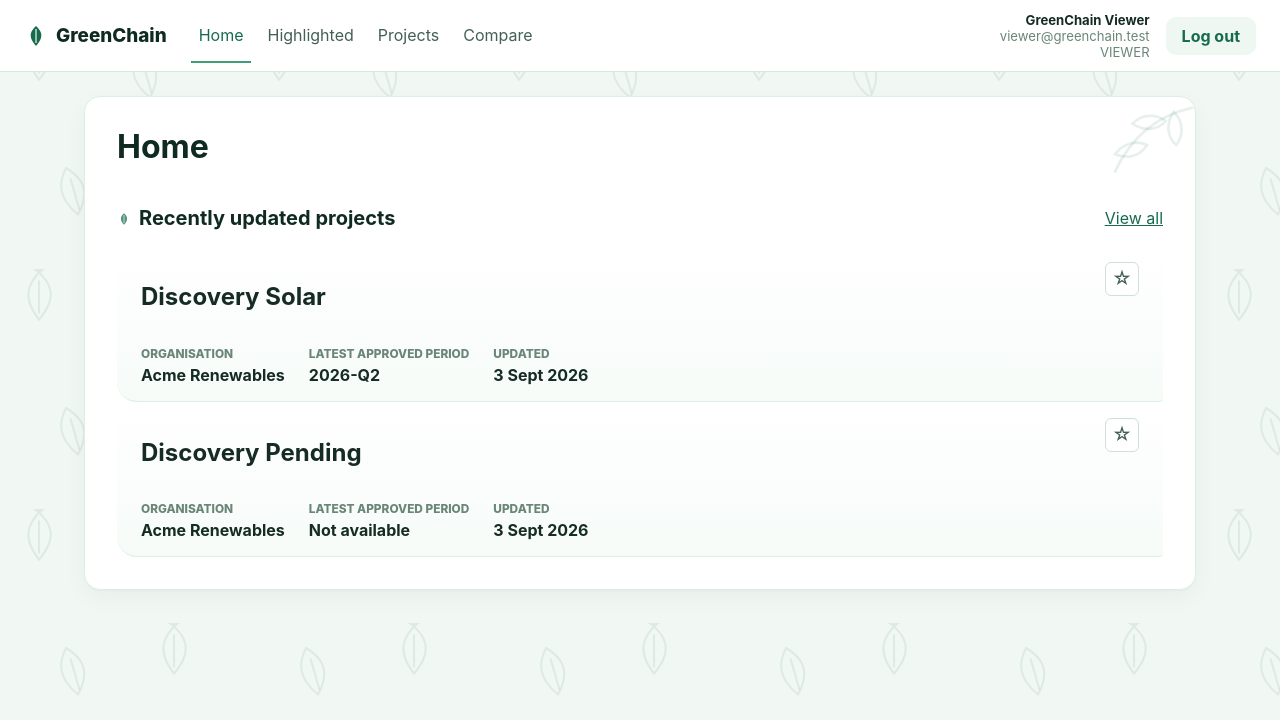
Test: Sprint 7 discovery and highlighted workflow › project card link opens detail while star toggles without navigation
Expected: the heading "Home" is shown, 117,127 -> 209,166
Expected: the heading "Discovery Solar" is shown, 141,282 -> 326,311
Click the button named "Add Discovery Solar to Highlighted" at [1122, 279], box 1105,262 -> 1139,296
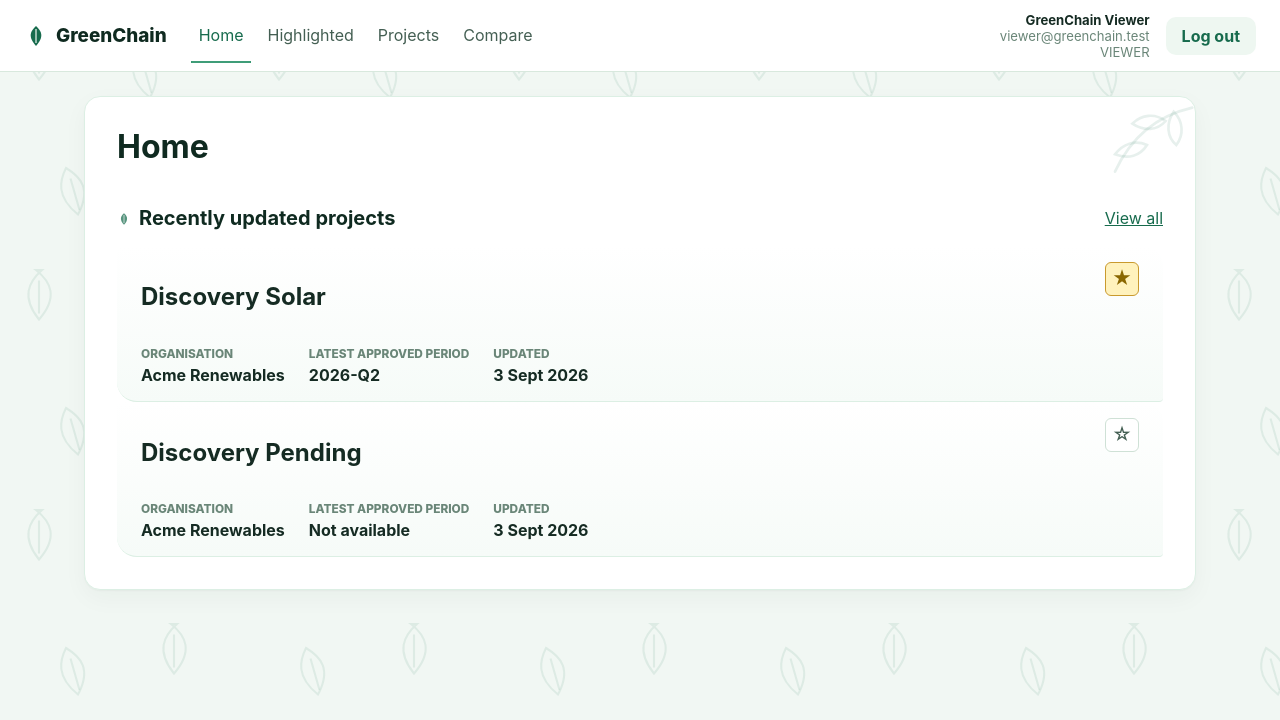
Expected: the heading "Home" is shown, 117,127 -> 209,166
Expected: the button named "Remove Discovery Solar from Highlighted" is shown, 1105,262 -> 1139,296
